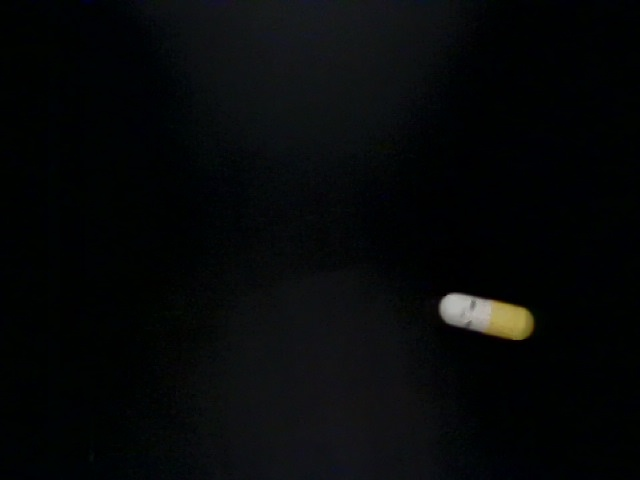YHLJ: (138, 180, 374, 325)
